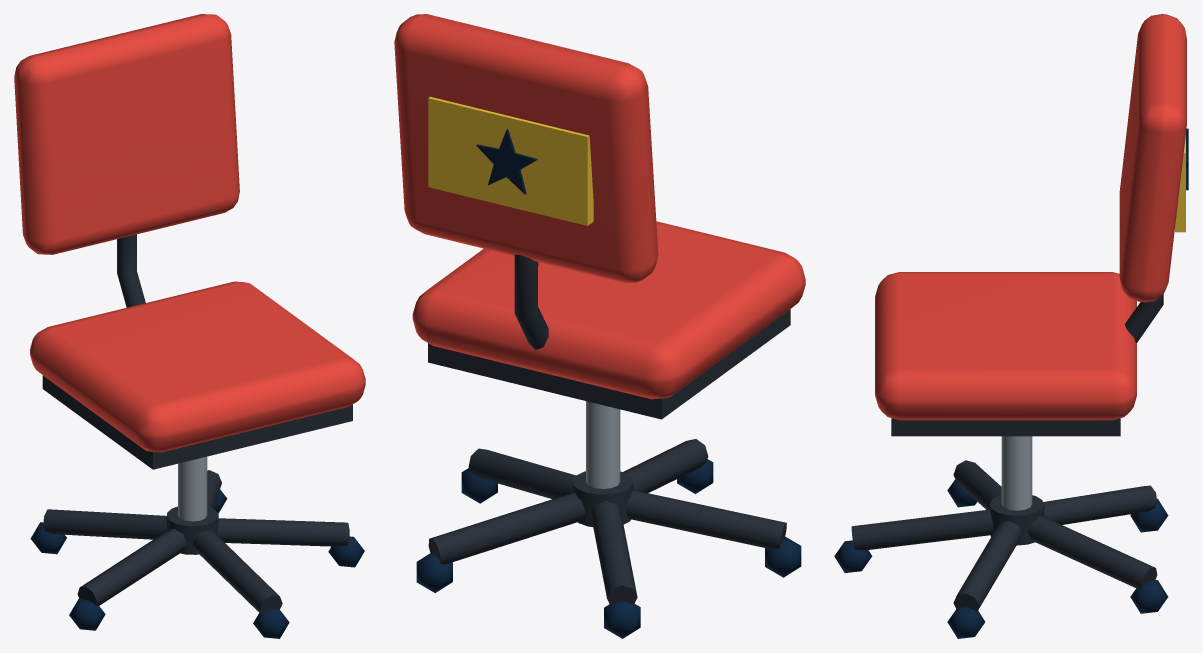
Rendered from farol7_chair.glb.
3 renders of one model, left to right at view 1: azimuth 30°, elevation 25°; view 2: azimuth 150°, elevation 25°; view 3: azimuth 270°, elevation 25°, orthographic. The views are drawn at different scales.
Visible parts, largest first — view 1: Farol7_Chair; view 2: Farol7_Chair; view 3: Farol7_Chair.
Boxes of the visible parts, x1,y1,x2,y2 form: Farol7_Chair: (14,14,365,638); Farol7_Chair: (394,14,805,638); Farol7_Chair: (834,14,1188,638).
Size of the model in its own units: 0.6332 by 1.03 by 0.65.
